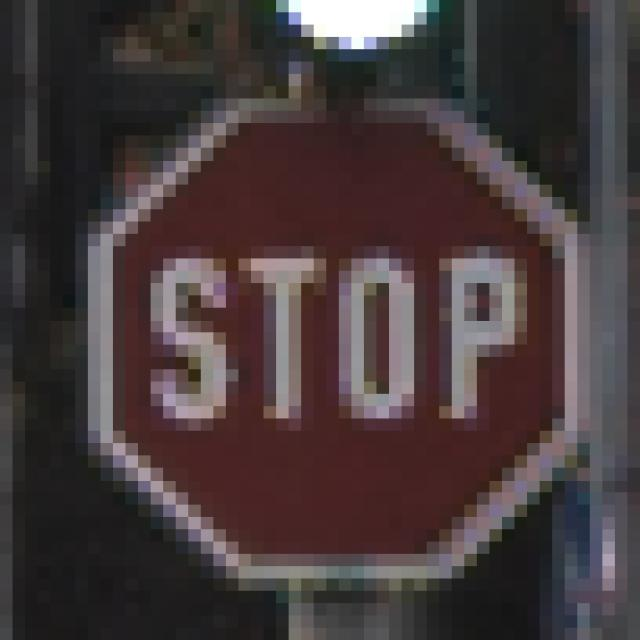STOP: (77, 75, 579, 579)
